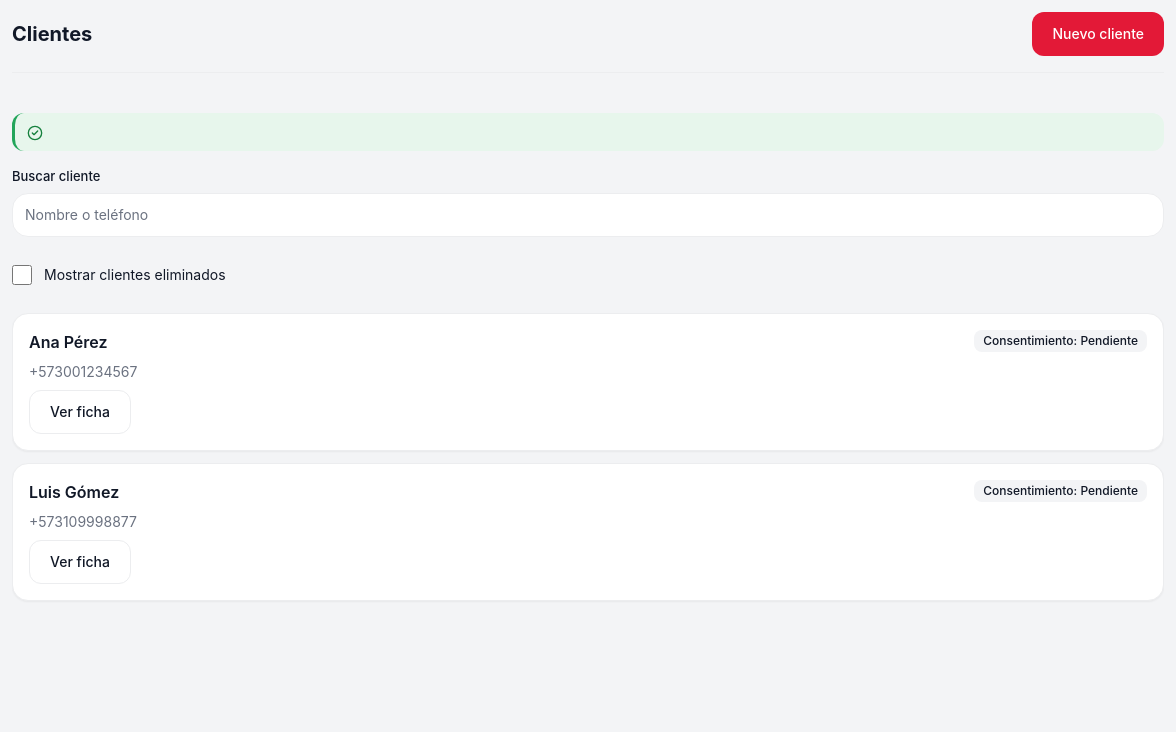
it: CustomersPage › muestra a los eliminados como "Cliente eliminado (alias)" al activar la opción
The image size is (1176, 732).
Expected: the heading "Ana Pérez" is shown, [29,330,108,354]
Click the checkbox labelled "Mostrar clientes eliminados" at point(22, 274), box [12,264,32,284]
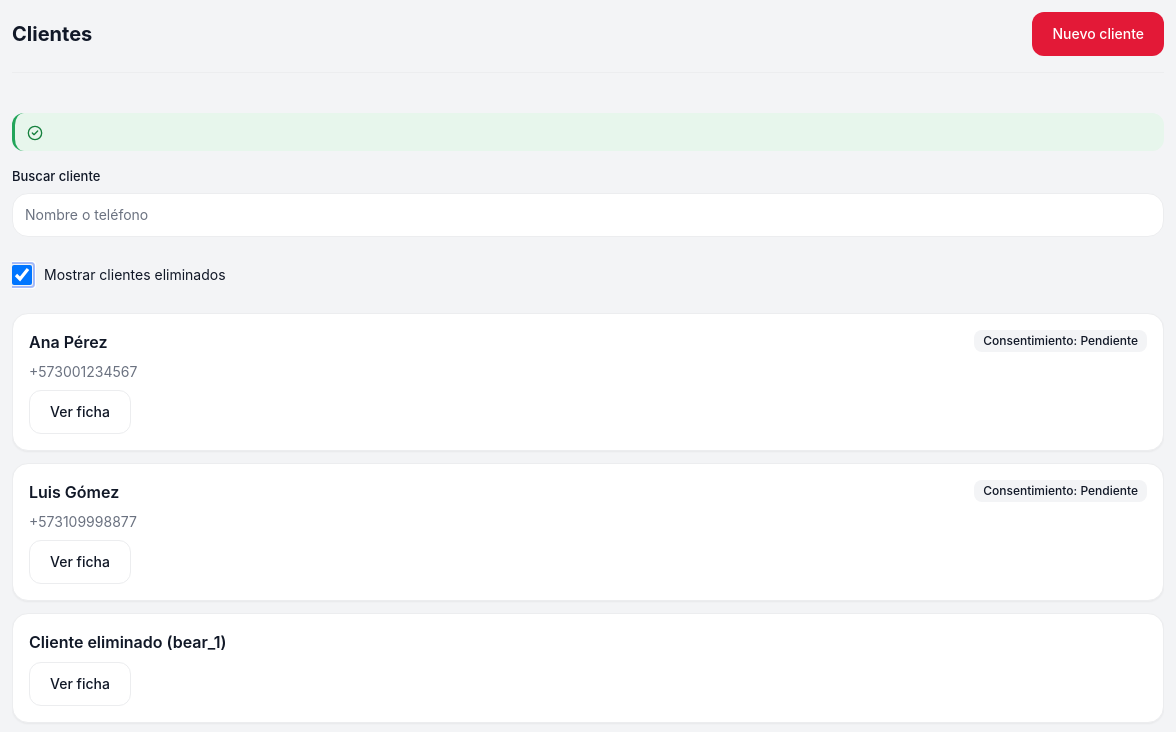
Now the heading "Cliente eliminado (bear_1)" is shown, box [29,630,227,654]
Now the link with aria-label "Ver ficha de Cliente eliminado (bear_1)" is shown, box [29,662,131,706]
